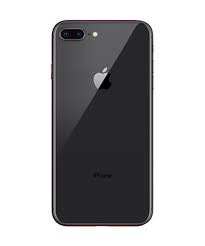iphone: (47, 19, 155, 228)
